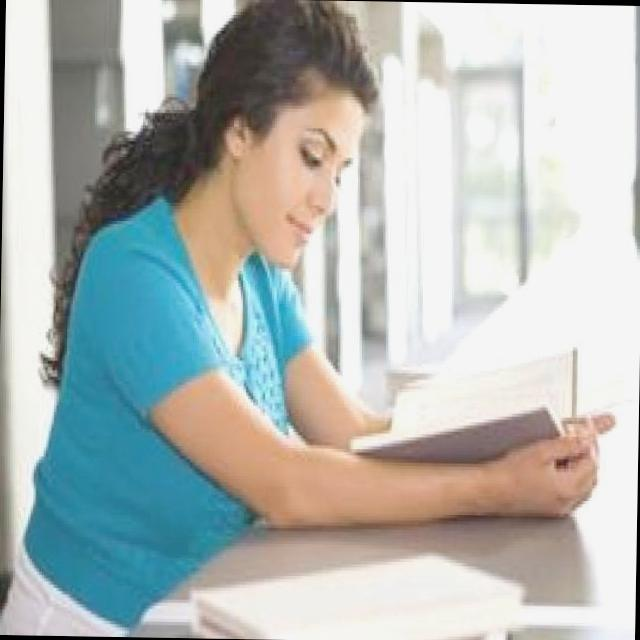no_vest: (30, 209, 313, 608)
